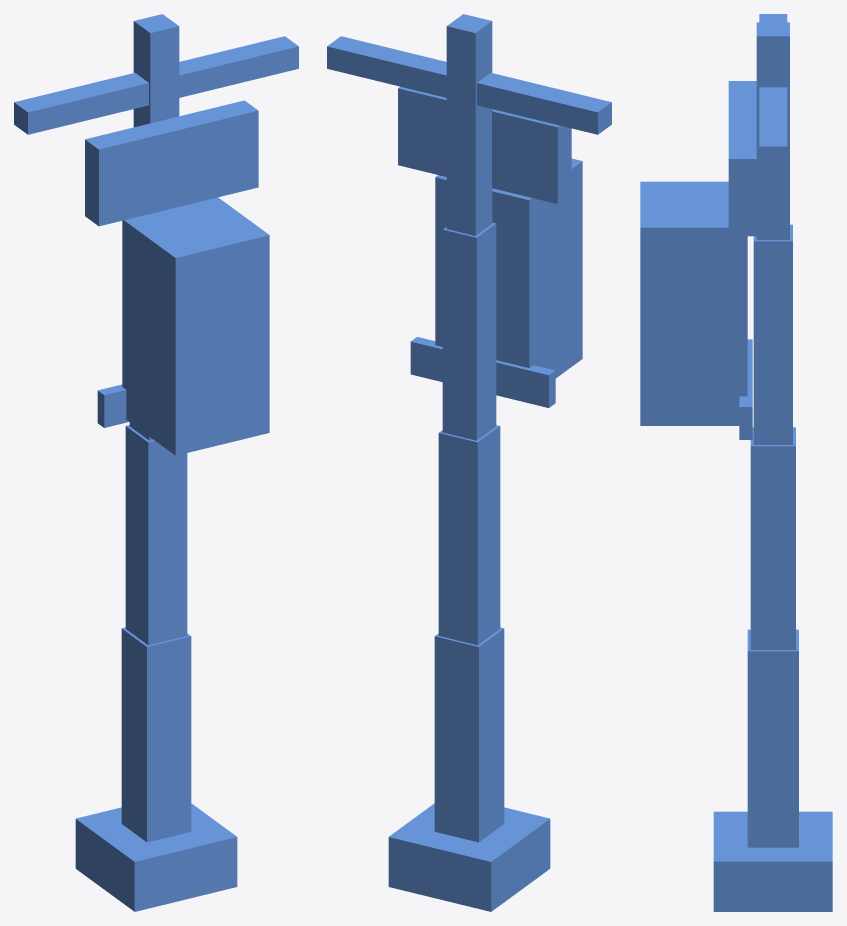
Rendered from ProjectZ_PLT35_Transformer_Standalone_Collision.glb.
3 renders of one model, left to right at view 1: azimuth 30°, elevation 25°; view 2: azimuth 150°, elevation 25°; view 3: azimuth 270°, elevation 25°, orthographic.
Visible parts, largest first — view 1: UCX_PLT35_TransformerAndMount, UCX_PLT35_FuseArresterArea, UCX_PLT35_PoleShaft_01, UCX_PLT35_PoleShaft_02, UCX_PLT35_PoleFoot, UCX_PLT35_PrimaryCrossarm, UCX_PLT35_PoleShaft_04, UCX_PLT35_LowVoltageCrossbar; view 2: UCX_PLT35_TransformerAndMount, UCX_PLT35_PoleShaft_01, UCX_PLT35_PoleShaft_02, UCX_PLT35_PoleFoot, UCX_PLT35_PoleShaft_03, UCX_PLT35_FuseArresterArea, UCX_PLT35_PoleShaft_04, UCX_PLT35_PrimaryCrossarm, UCX_PLT35_LowVoltageCrossbar; view 3: UCX_PLT35_TransformerAndMount, UCX_PLT35_PoleShaft_01, UCX_PLT35_PoleFoot, UCX_PLT35_PoleShaft_02, UCX_PLT35_PoleShaft_03, UCX_PLT35_PoleShaft_04, UCX_PLT35_FuseArresterArea, UCX_PLT35_PrimaryCrossarm, UCX_PLT35_LowVoltageCrossbar.
Part boxes in pixels (x1,y1,x2,y2): UCX_PLT35_TransformerAndMount: (122,197,269,455); UCX_PLT35_FuseArresterArea: (85,100,258,226); UCX_PLT35_PoleShaft_01: (121,627,191,842); UCX_PLT35_PoleShaft_02: (125,425,187,645); UCX_PLT35_PoleFoot: (75,803,237,911); UCX_PLT35_PrimaryCrossarm: (14,36,298,134); UCX_PLT35_PoleShaft_04: (133,14,179,127); UCX_PLT35_LowVoltageCrossbar: (97,384,128,427); UCX_PLT35_TransformerAndMount: (435,158,582,378); UCX_PLT35_PoleShaft_01: (434,627,504,842); UCX_PLT35_PoleShaft_02: (438,425,500,645); UCX_PLT35_PoleFoot: (388,803,550,911); UCX_PLT35_PoleShaft_03: (442,222,496,440); UCX_PLT35_FuseArresterArea: (398,86,571,203); UCX_PLT35_PoleShaft_04: (446,14,492,235); UCX_PLT35_PrimaryCrossarm: (327,36,611,134); UCX_PLT35_LowVoltageCrossbar: (410,337,555,407); UCX_PLT35_TransformerAndMount: (640,181,747,425); UCX_PLT35_PoleShaft_01: (747,629,798,847); UCX_PLT35_PoleFoot: (713,811,832,911); UCX_PLT35_PoleShaft_02: (750,427,795,649); UCX_PLT35_PoleShaft_03: (753,224,792,444); UCX_PLT35_PoleShaft_04: (756,22,789,239); UCX_PLT35_FuseArresterArea: (728,81,756,236); UCX_PLT35_PrimaryCrossarm: (759,14,787,168); UCX_PLT35_LowVoltageCrossbar: (739,339,752,439).
Size of the model in its own units: 3.8 by 11.45 by 2.33.
